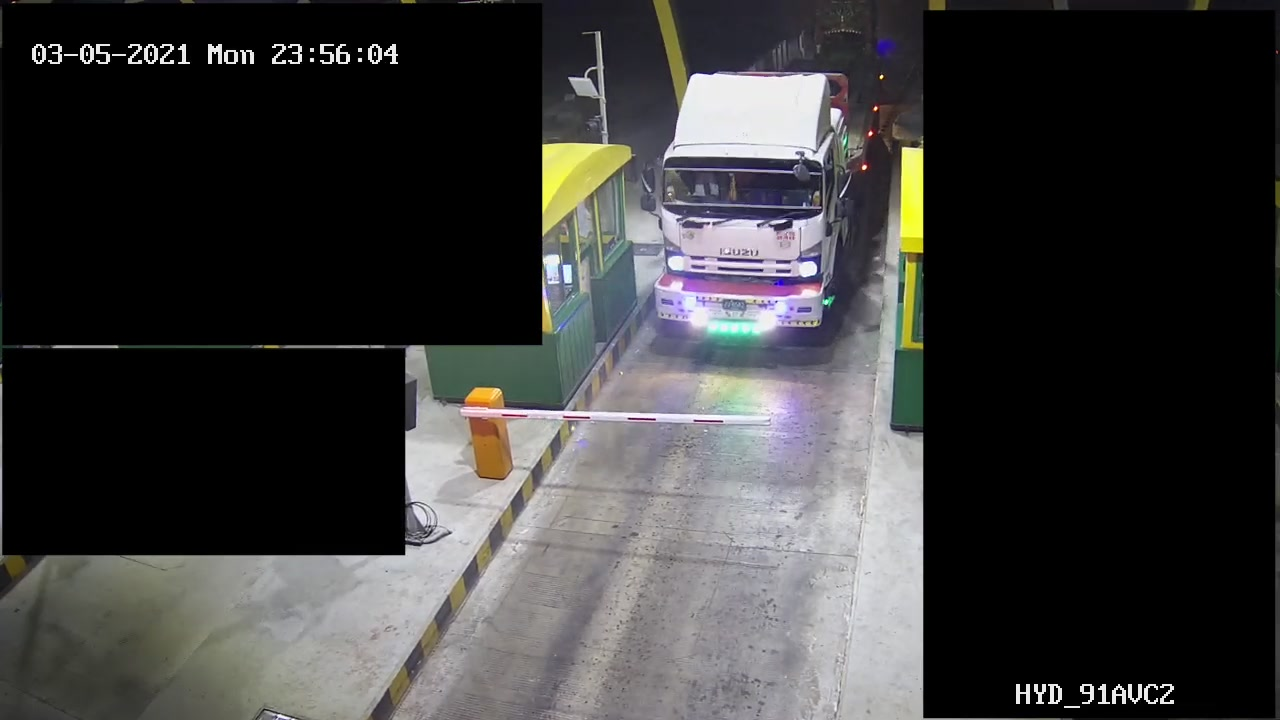F6: (648, 72, 884, 347)
